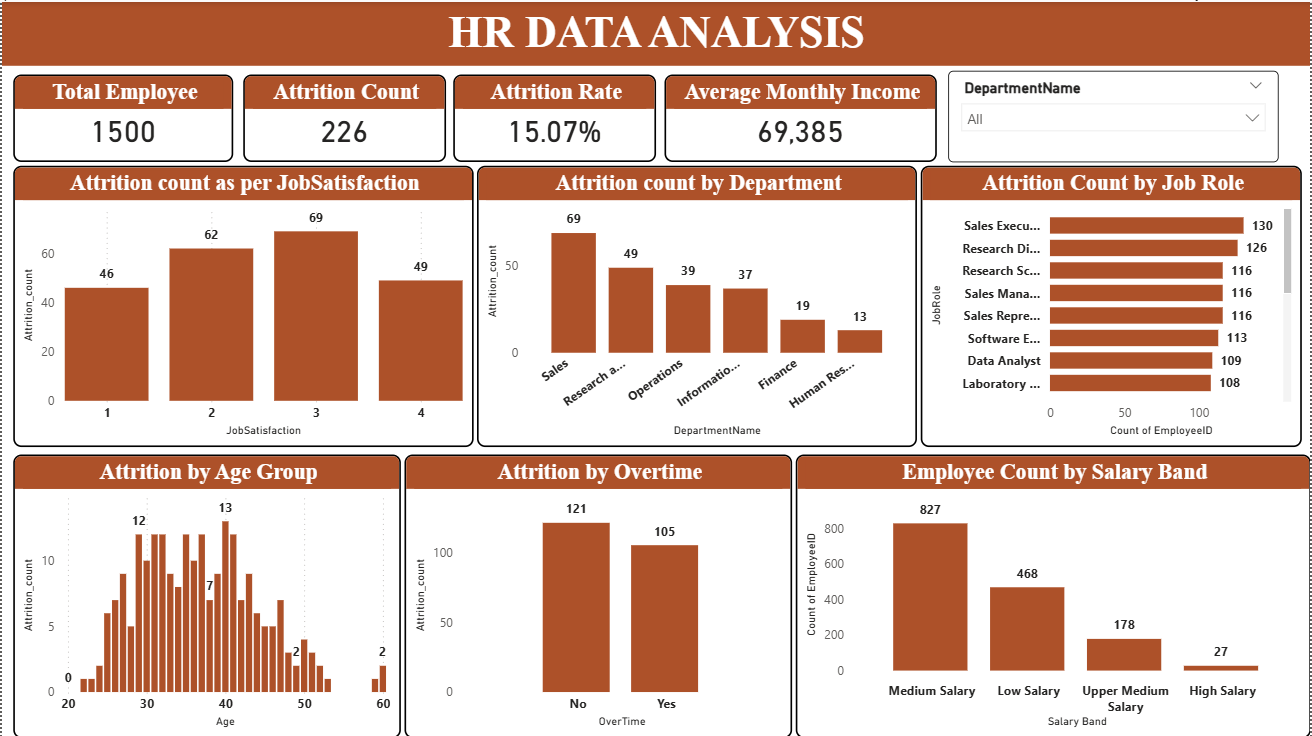

Layout of this report page (visuals, bound fields, positions):
{"tool":"powerbi","page":{"name":"Page 1","canvas":[1280,720],"ordinal":0},"visuals":[{"type":"card","title":"Total Employee","fields":{"Values":["Fact_Attrition.Total_Employee"]},"box":[11,70.9,215.2,85.6],"z":0},{"type":"card","title":"Attrition Count","fields":{"Values":["Fact_Attrition.Attrition_count"]},"box":[236,70.9,198.1,85.6],"z":1000},{"type":"card","title":"Attrition Rate","fields":{"Values":["Fact_Attrition.Attrition Rate"]},"box":[441.4,70.9,198.1,85.6],"z":2000},{"type":"columnChart","title":"Attrition count as per JobSatisfaction","fields":{"Y":["Fact_Attrition.Attrition_count"],"Category":["Fact_Attrition.JobSatisfaction"]},"box":[11,160.2,450,275.1],"z":3000},{"type":"columnChart","title":"Attrition count by Department","fields":{"Category":["Dim_Department.DepartmentName"],"Y":["Fact_Attrition.Attrition_count"]},"box":[464.7,160.2,430.4,275.1],"z":4000},{"type":"columnChart","title":"Employee Count by Salary Band","fields":{"Category":["Fact_Attrition.Salary Band"],"Y":["CountNonNull(Dim_Employee.EmployeeID)"]},"box":[776.5,442.7,503.8,277.6],"z":5000},{"type":"clusteredColumnChart","title":"Attrition by Age Group","fields":{"Category":["Dim_Employee.Age"],"Y":["Fact_Attrition.Attrition_count"]},"box":[11,442.7,379.1,277.6],"z":6000},{"type":"columnChart","title":"Attrition by Overtime","fields":{"Category":["Dim_Employee.OverTime"],"Y":["Fact_Attrition.Attrition_count"]},"box":[393.8,442.4,379.1,277.6],"z":7000},{"type":"slicer","fields":{"Values":["Dim_Department.DepartmentName"]},"box":[925.7,67.3,322.8,89.3],"z":8000},{"type":"clusteredBarChart","title":"Attrition Count by Job Role","fields":{"Category":["Dim_Employee.JobRole"],"Y":["CountNonNull(Dim_Employee.EmployeeID)"]},"box":[898.8,160.2,373,275.1],"z":9000},{"type":"textbox","box":[0,0,1280.3,62.4],"z":10000},{"type":"card","title":"Average Monthly Income","fields":{"Values":["Fact_Attrition.Average Monthly Income"]},"box":[648.1,70.9,266.6,85.6],"z":10001}]}

Visuals, with their boxes in screenshot pixels (x1, y1, x2, y2), scaled from the page's 1280x720 canvas onto the 1312x736 screenshot:
"Total Employee" card: x1=11 y1=72 x2=232 y2=160
"Attrition Count" card: x1=242 y1=72 x2=445 y2=160
"Attrition Rate" card: x1=452 y1=72 x2=655 y2=160
"Attrition count as per JobSatisfaction" columnChart: x1=11 y1=164 x2=473 y2=445
"Attrition count by Department" columnChart: x1=476 y1=164 x2=917 y2=445
"Employee Count by Salary Band" columnChart: x1=796 y1=453 x2=1311 y2=735
"Attrition by Age Group" clusteredColumnChart: x1=11 y1=453 x2=400 y2=735
"Attrition by Overtime" columnChart: x1=404 y1=452 x2=792 y2=735
slicer - Dim_Department.DepartmentName: x1=949 y1=69 x2=1280 y2=160
"Attrition Count by Job Role" clusteredBarChart: x1=921 y1=164 x2=1304 y2=445
textbox: x1=0 y1=0 x2=1311 y2=64
"Average Monthly Income" card: x1=664 y1=72 x2=938 y2=160
